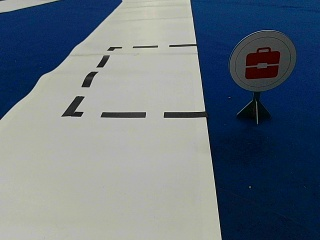company: (230, 30, 297, 89)
